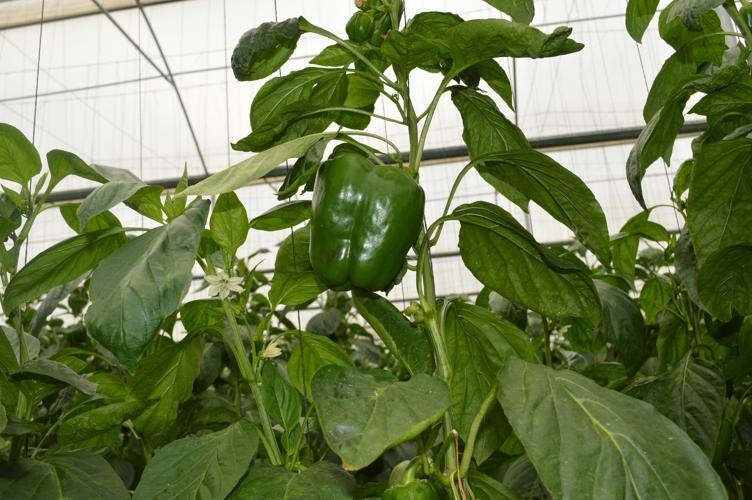BellPepper: (296, 135, 432, 307)
